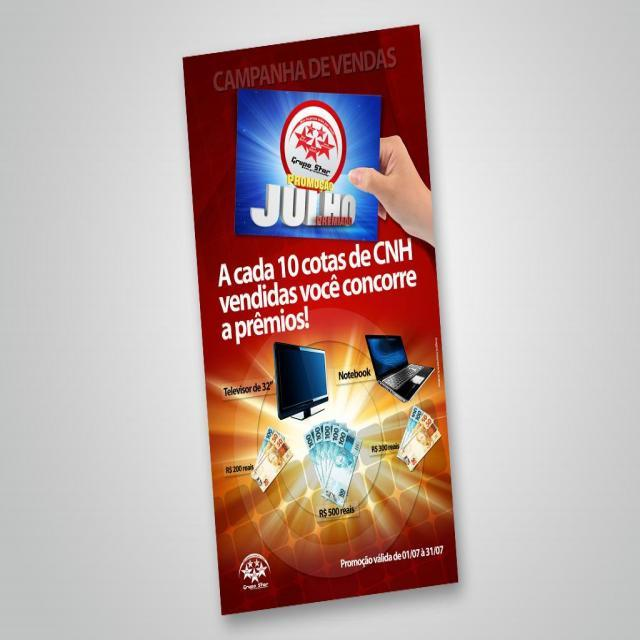others: (142, 14, 507, 618)
